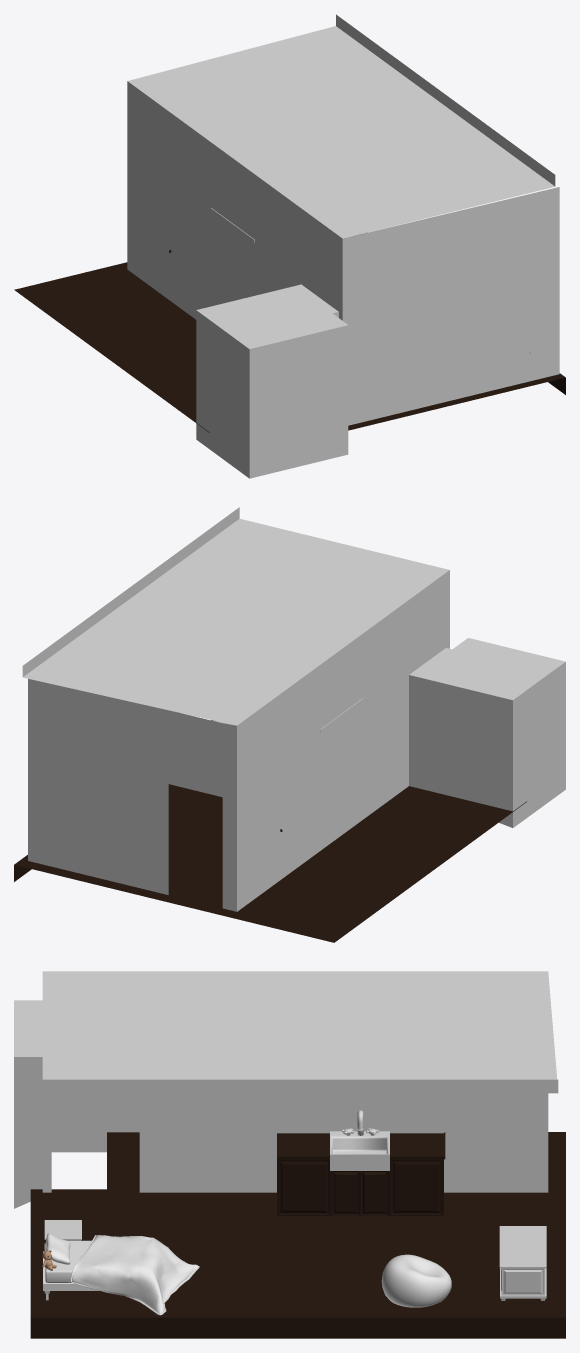
The model's file is ApartmentLayout.fbx.
The picture shows the model from 3 angles, top to bottom: view 1: azimuth 30°, elevation 25°; view 2: azimuth 150°, elevation 25°; view 3: azimuth 270°, elevation 25°; orthographic projection. The views are drawn at different scales.
Visible parts, largest first — view 1: Apartment_WALLS, Apartment_FLOOR; view 2: Apartment_WALLS, Apartment_FLOOR; view 3: Apartment_WALLS, Apartment_FLOOR, Apartment_COUNTER, mattress, TV_Stand, beanbag, Sink, nightstand.
Boxes of the visible parts, box(x1,y1,x2,y2) form: Apartment_WALLS: box(127, 14, 559, 478); Apartment_FLOOR: box(14, 262, 565, 432); Apartment_WALLS: box(22, 507, 565, 911); Apartment_FLOOR: box(14, 720, 526, 942); Apartment_WALLS: box(14, 971, 558, 1208); Apartment_FLOOR: box(30, 1132, 565, 1338); Apartment_COUNTER: box(277, 1132, 445, 1216); mattress: box(42, 1233, 199, 1315); TV_Stand: box(499, 1226, 546, 1300); beanbag: box(381, 1254, 451, 1307); Sink: box(330, 1110, 389, 1170); nightstand: box(44, 1220, 81, 1251).
Bounding box in the file's own units: 6.12 × 4.89 × 3.13.
